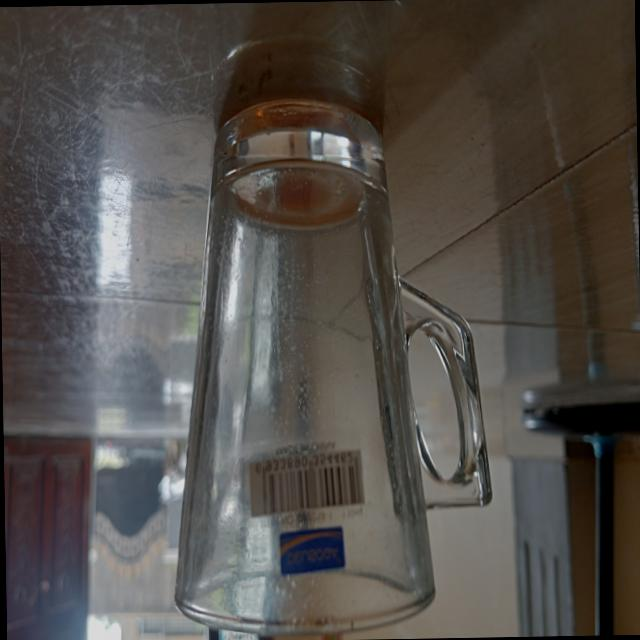glass-VX4N: (156, 92, 494, 636)
